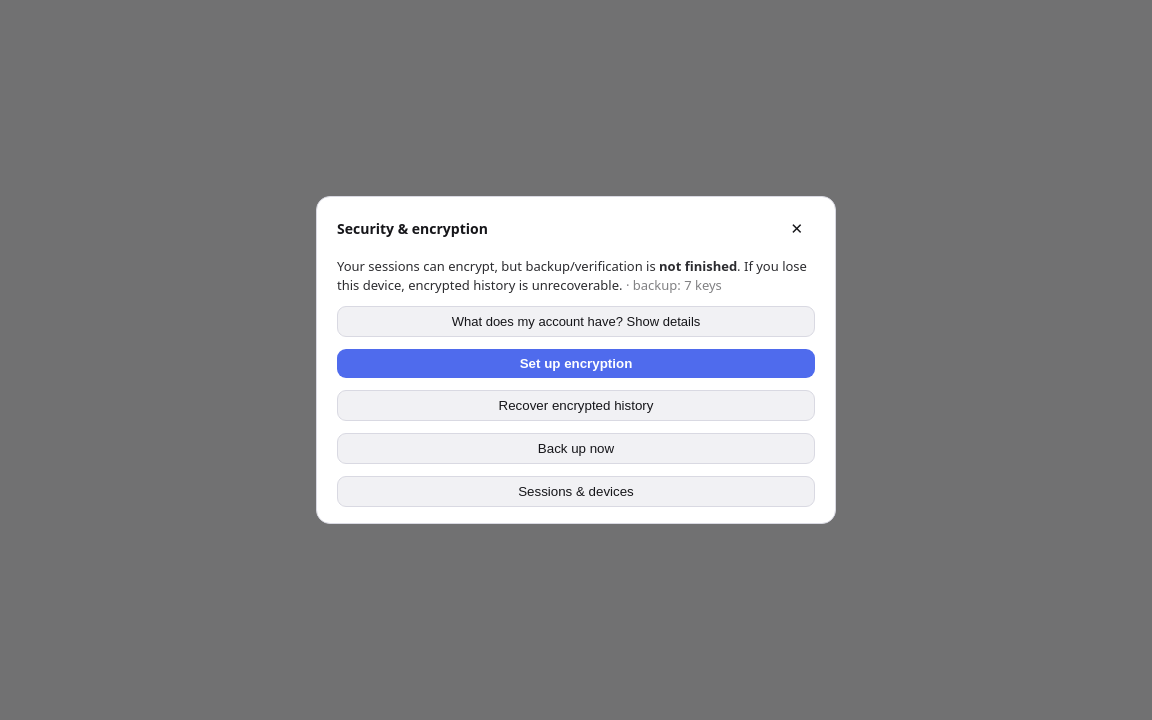
it: W5a SecuritySheet › recovery by passphrase shows progress then imported count
Click the button with test id "start-recover": (576, 406) [337,390,815,421]
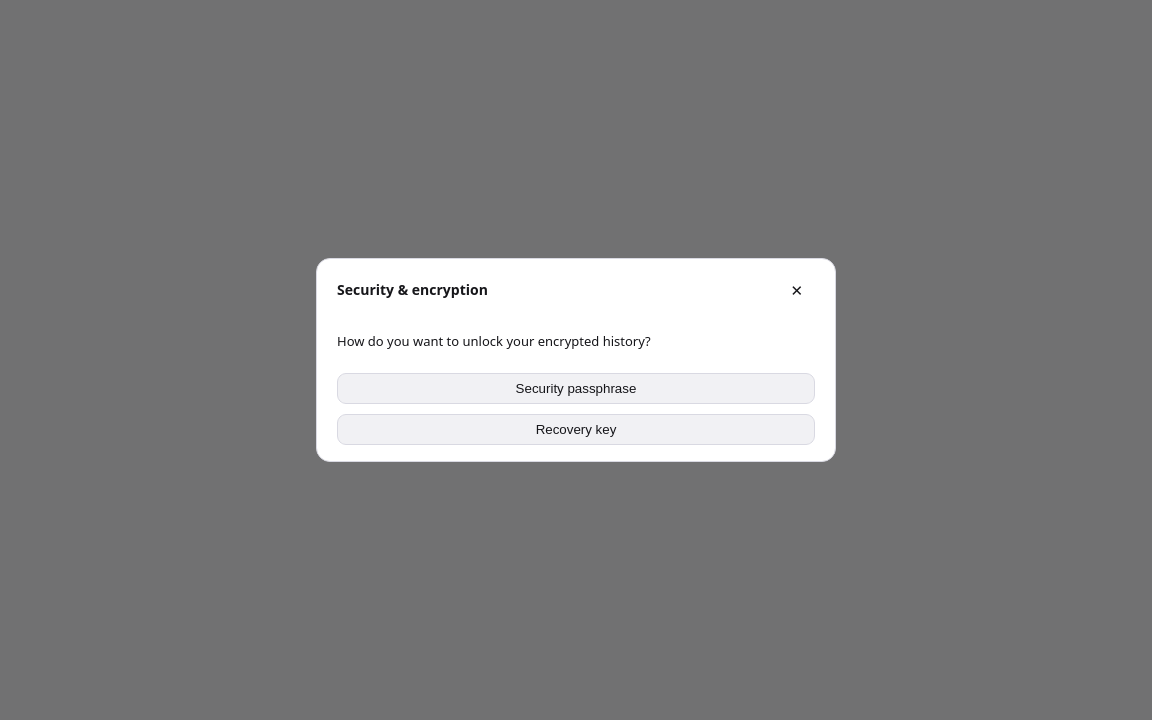
Click the button with test id "recover-pass": (576, 389) [337,373,815,404]
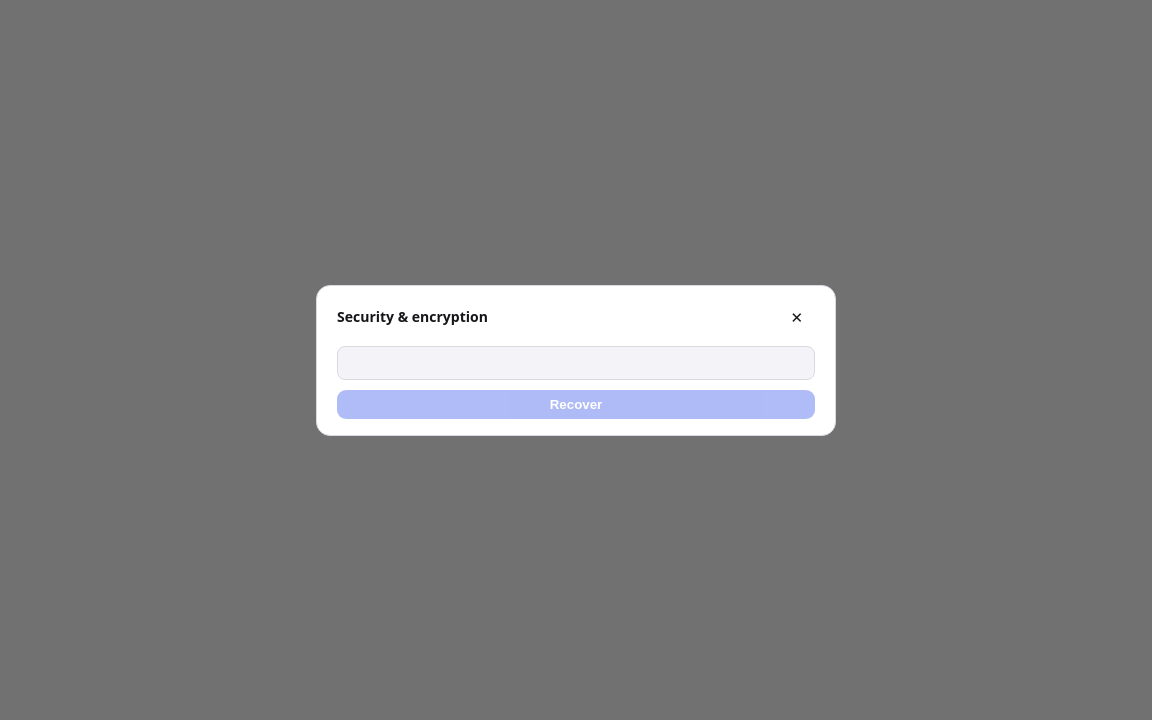
In the password field with test id "recover-input": (576, 362) [337,346,815,380], type "correct horse"
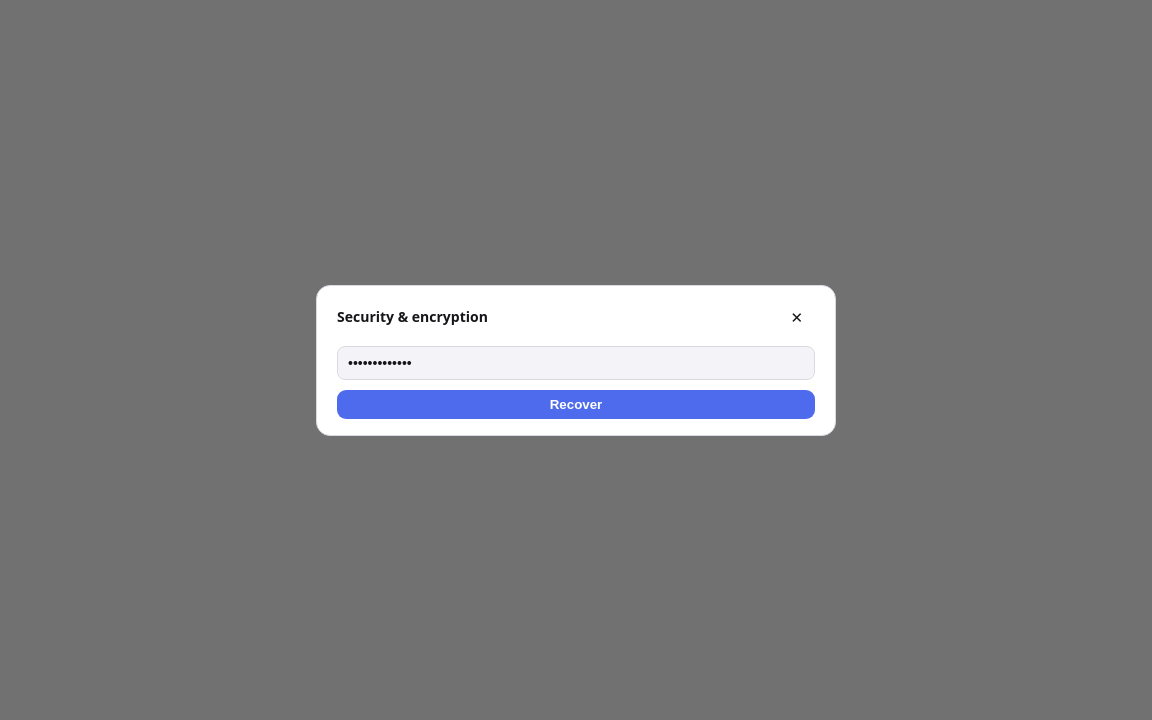
Click the button with test id "recover-go": (576, 404) [337,390,815,418]
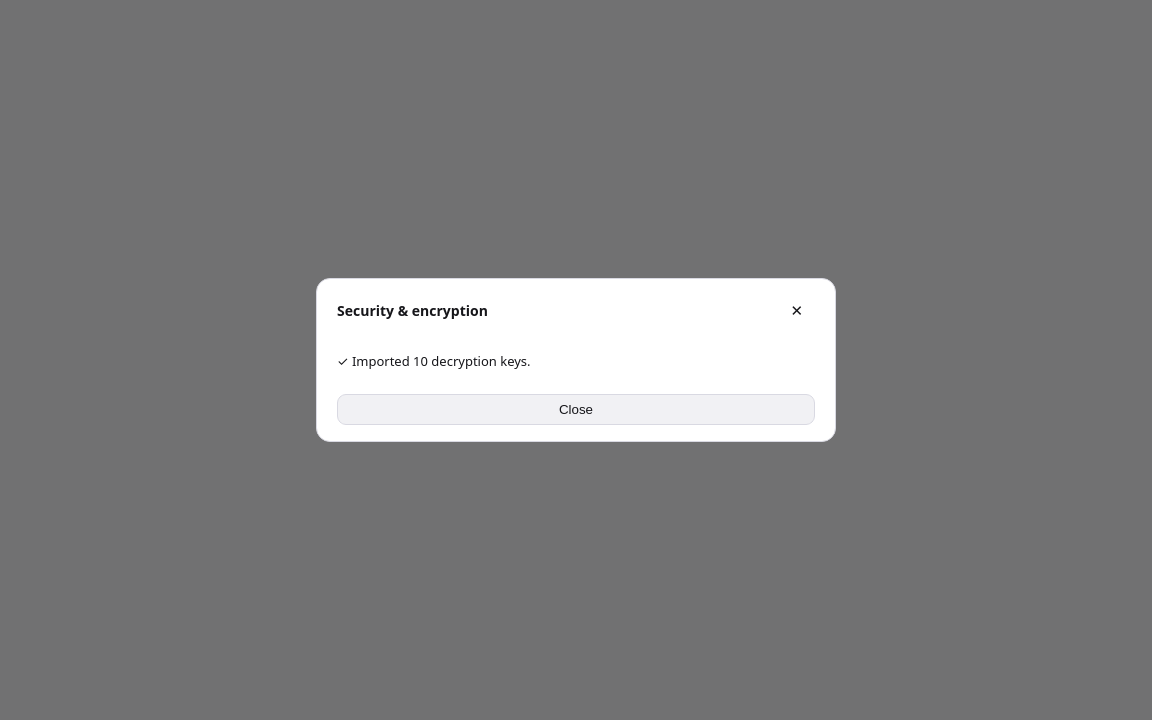
Expected: the text with test id "recover-done" shows "Imported 10", [337,352,531,370]
